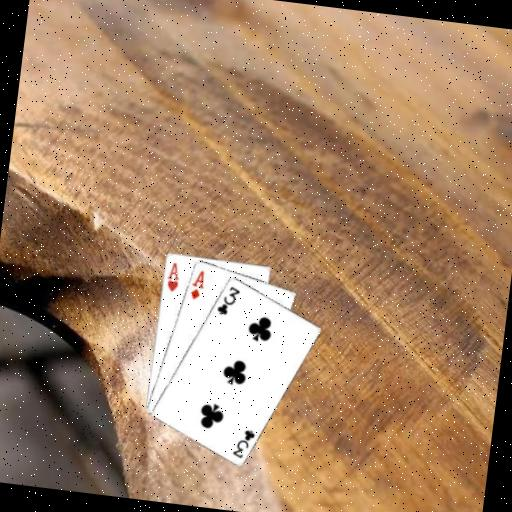3C: (213, 282, 242, 319), (229, 425, 257, 462)
AD: (187, 266, 208, 302)
AH: (163, 259, 182, 294)
